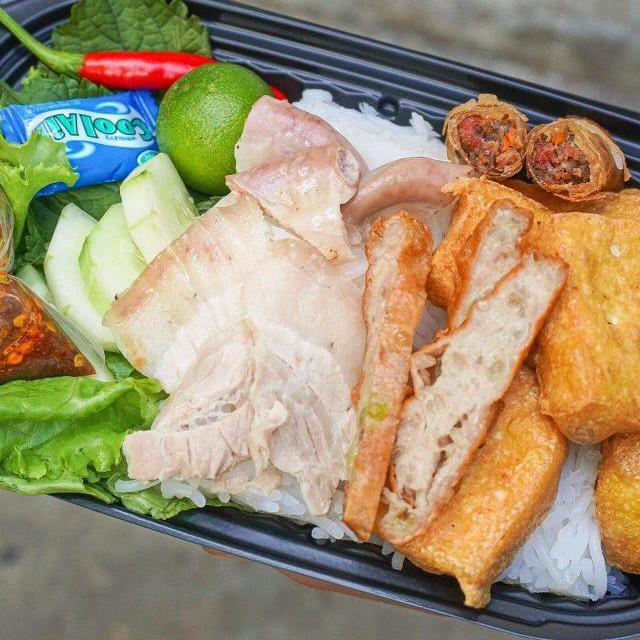bun: (110, 454, 371, 549), (500, 439, 611, 609), (291, 82, 453, 177)
bun dau: (0, 36, 640, 636)
cha com: (367, 240, 575, 551), (331, 199, 442, 568), (417, 193, 542, 408)
cha gio: (517, 108, 634, 203), (437, 89, 542, 189)
dau hu: (395, 355, 595, 620), (532, 204, 640, 454), (585, 377, 640, 597)
thit heo: (102, 185, 394, 535)
